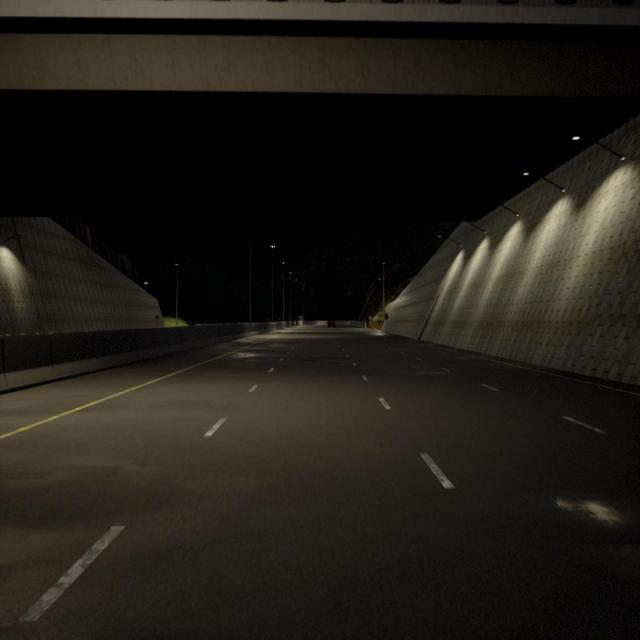Traffic_Signs: (384, 313, 389, 320), (156, 314, 160, 320), (368, 316, 372, 320)
Vehicle: (328, 319, 336, 328)
